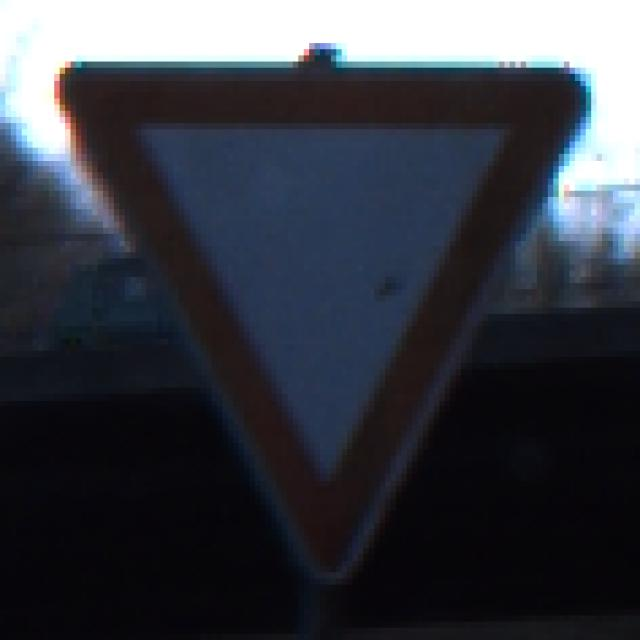Give Way: (55, 57, 587, 586)
